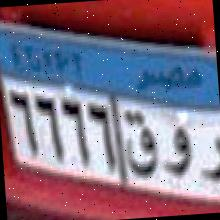6: (88, 101, 119, 171), (61, 99, 89, 164), (36, 95, 61, 160), (10, 92, 36, 154)
qaaf: (122, 110, 161, 181)
raa: (199, 135, 220, 184)
waw: (165, 128, 194, 174)
